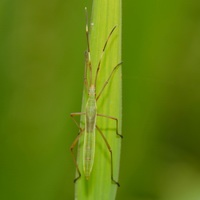insect: (72, 0, 121, 199)
